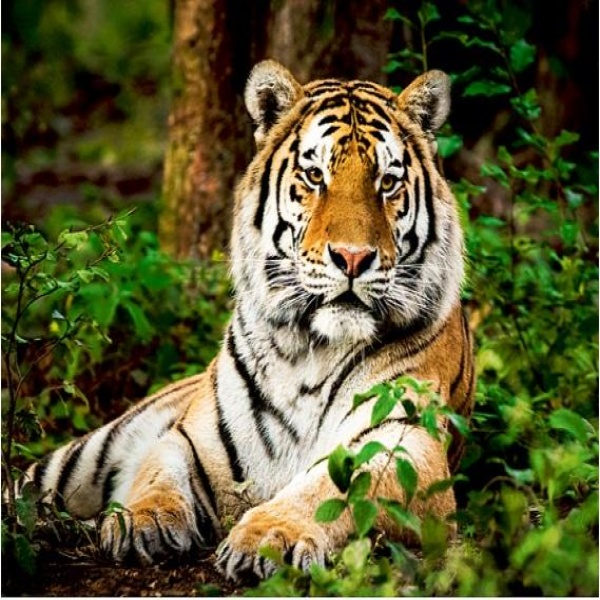Tiger: (12, 53, 478, 586)
